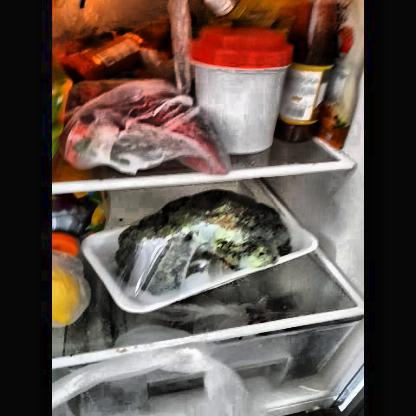broccoli: (121, 190, 292, 292)
